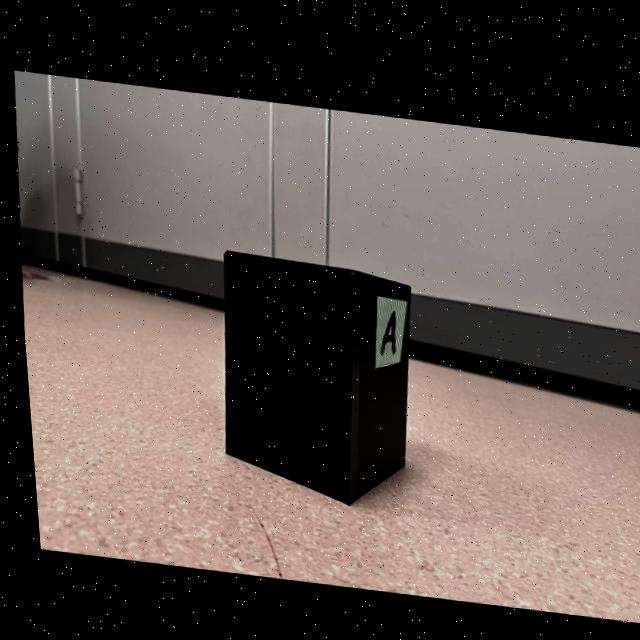A: (376, 304, 390, 346)
